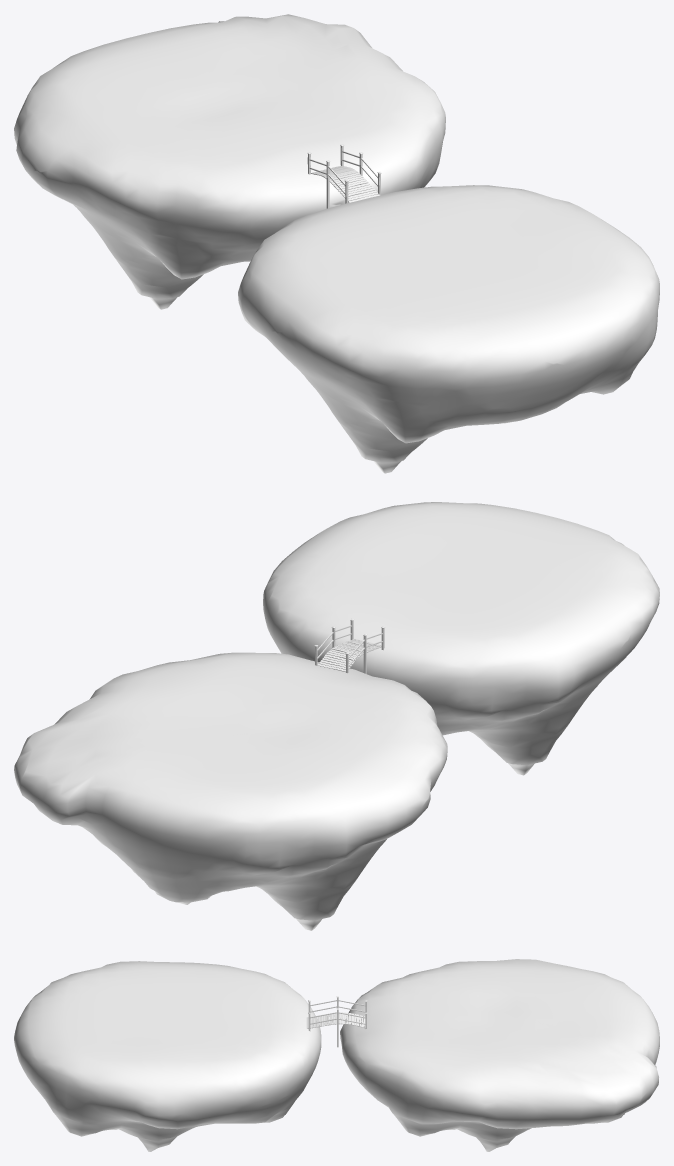
Rendered from level.glb.
The picture shows the model from 3 angles, top to bottom: view 1: azimuth 30°, elevation 25°; view 2: azimuth 150°, elevation 25°; view 3: azimuth 270°, elevation 25°; orthographic projection. The views are drawn at different scales.
Visible parts, largest first — view 1: Cube.001, Cube.003, woodbridge; view 2: Cube.003, Cube.001, woodbridge; view 3: Cube.003, Cube.001, woodbridge.
Boxes of the visible parts, x1,y1,x2,y2 form: Cube.001: [238, 185, 659, 473]; Cube.003: [14, 14, 445, 309]; woodbridge: [307, 144, 381, 208]; Cube.003: [14, 652, 447, 930]; Cube.001: [263, 502, 659, 775]; woodbridge: [314, 618, 384, 673]; Cube.003: [340, 959, 659, 1151]; Cube.001: [14, 961, 321, 1151]; woodbridge: [306, 996, 367, 1047].
Bounding box in the file's own units: 75.07 × 41.06 × 148.
3 materials, 3 textured.
